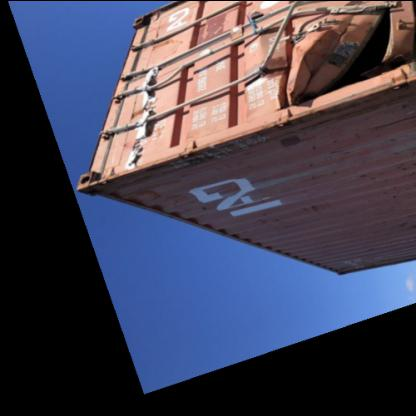Damage: (138, 3, 414, 154)
